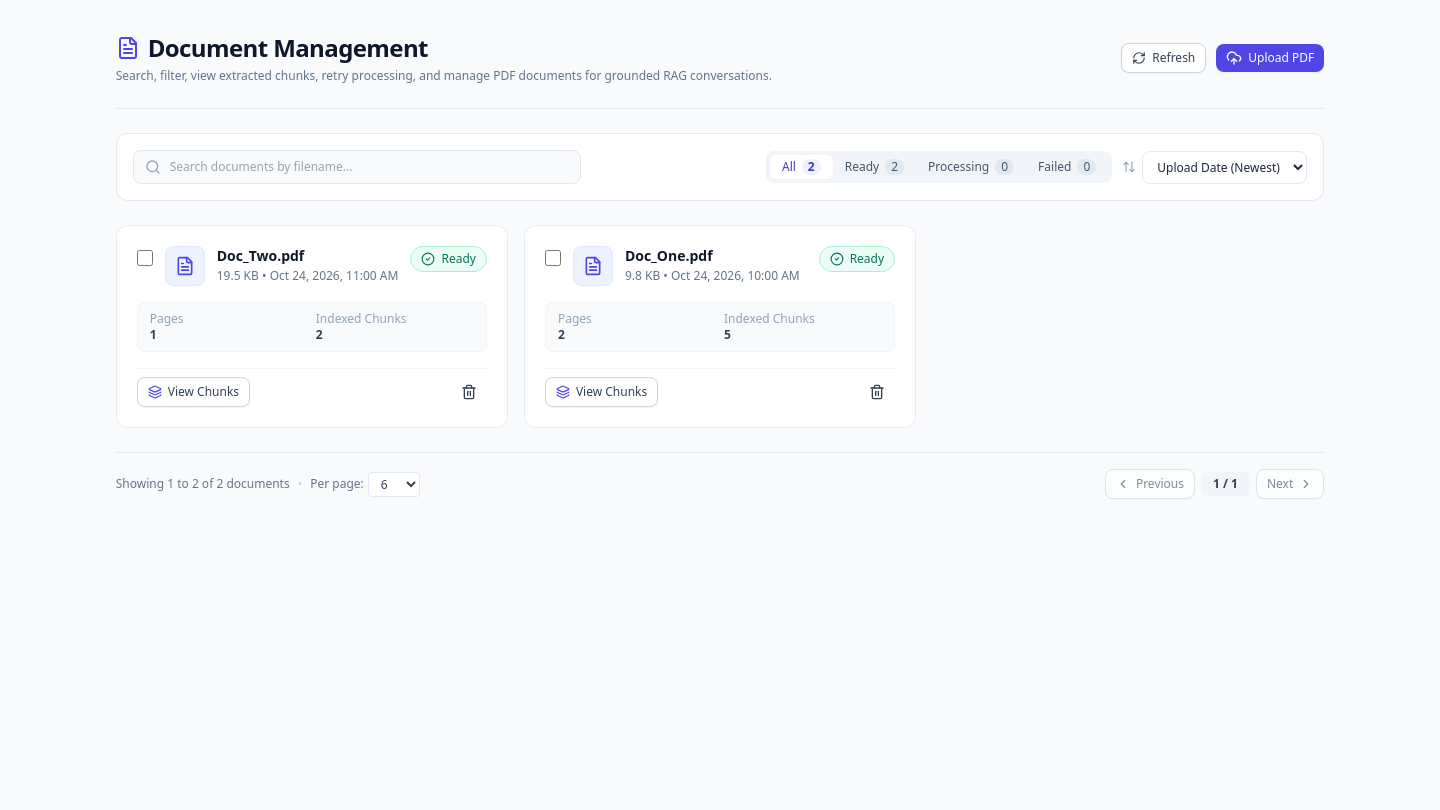
Test: Document Management and Status Handling › supports selecting multiple documents and executing bulk deletion with confirmation
This screenshot has width=1440, height=810.
Expected: the heading "Doc_One.pdf" is shown, [625,246,713,265]
Click the checkbox with test id "select-doc-checkbox-doc-1" at (553, 258), box [545,250,561,266]
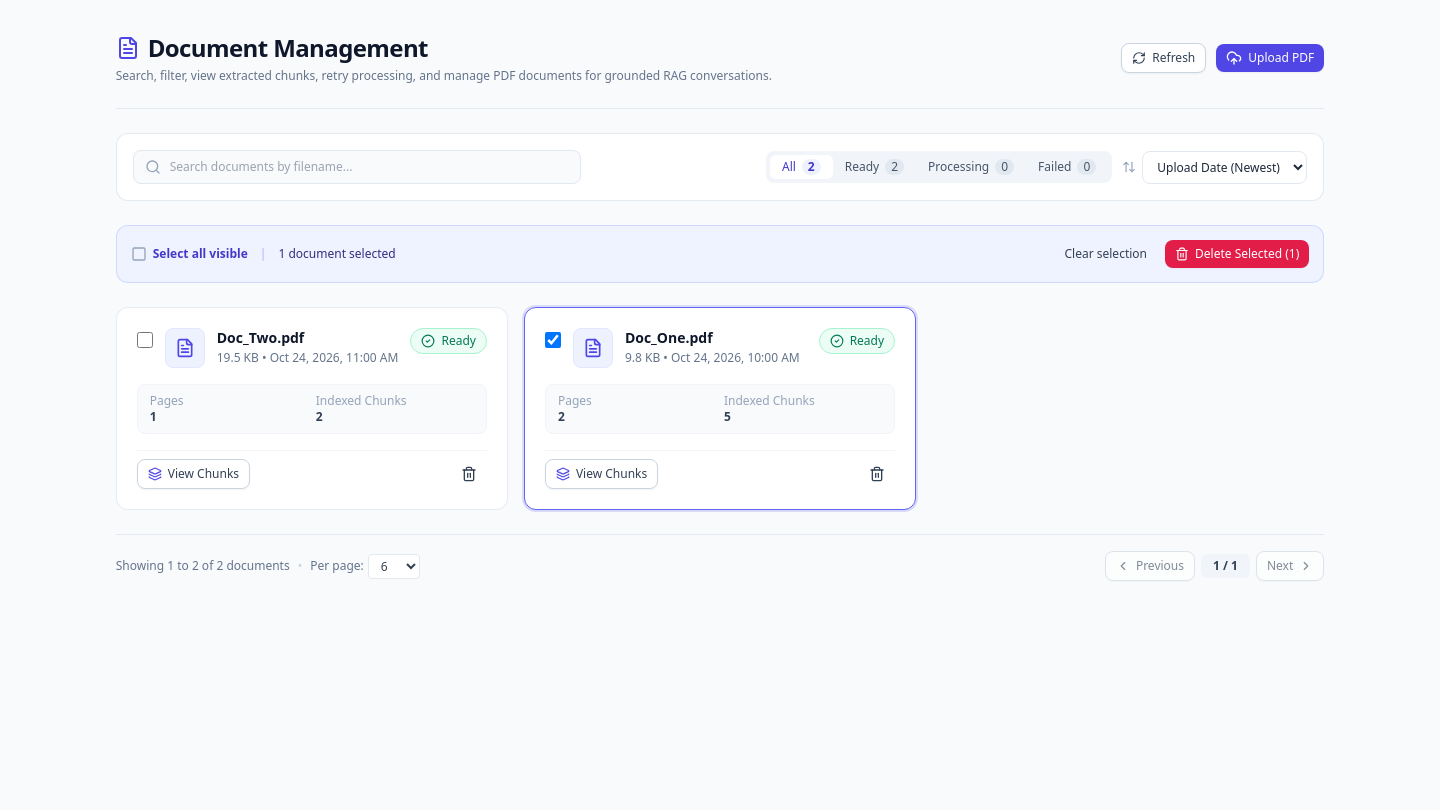
Expected: the element with test id "bulk-action-bar" is shown, [116,225,1324,283]
Expected: the text with test id "selected-count-badge" reads "1 document selected", [278,246,396,262]
Click the checkbox with test id "select-doc-checkbox-doc-2" at (145, 340), box [137,332,153,348]
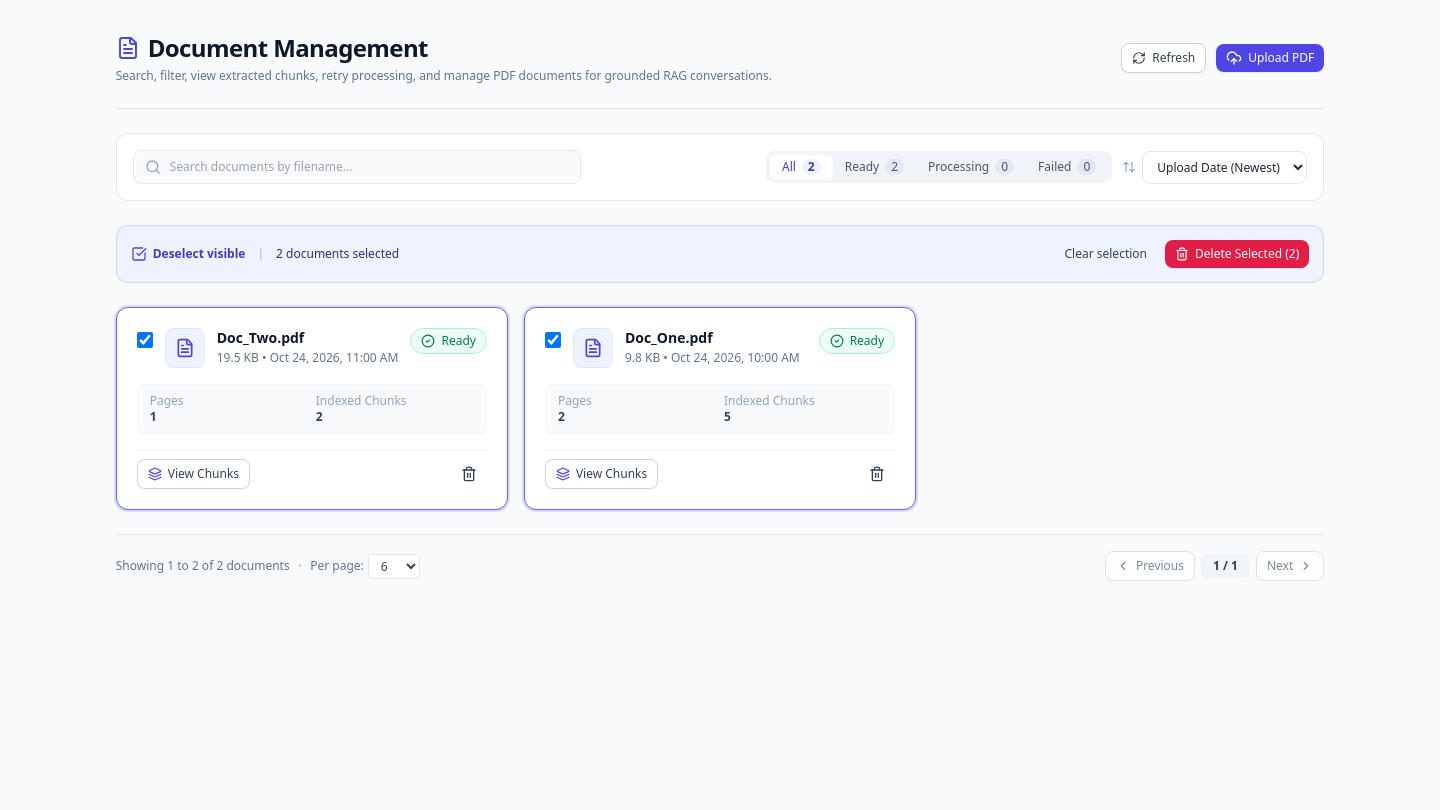
Expected: the text with test id "selected-count-badge" reads "2 documents selected", [276,246,399,262]
Click "Delete Selected (2)"
Click the button with test id "bulk-delete-button" at (1237, 254), box [1165,240,1309,268]
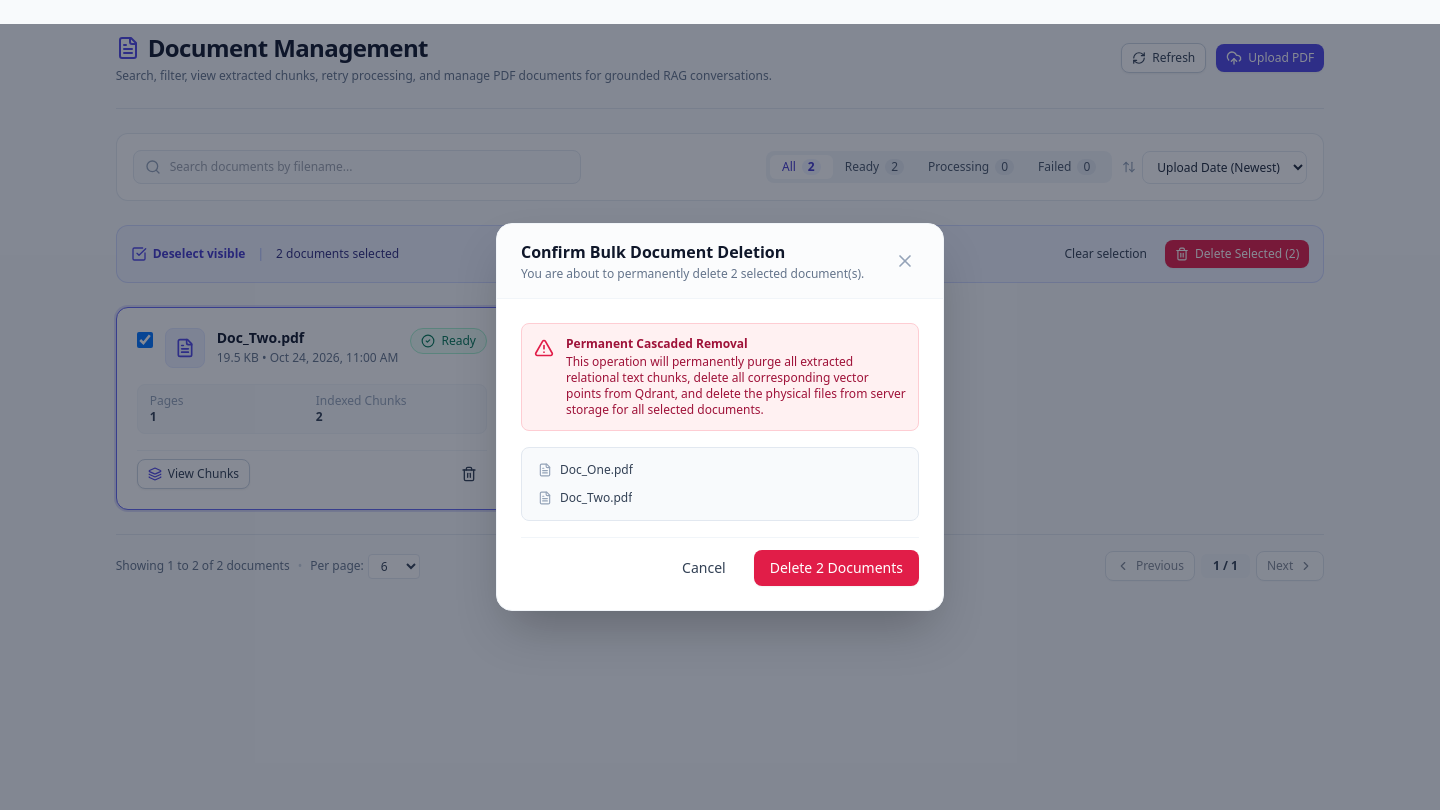
Expected: the heading "Confirm Bulk Document Deletion" is shown, [521,241,785,263]
Expected: the text "Permanent Cascaded Removal" is shown, [566,335,748,352]
Confirm deletion
Click the button with test id "confirm-bulk-delete-button" at (836, 568), box [754,550,919,586]
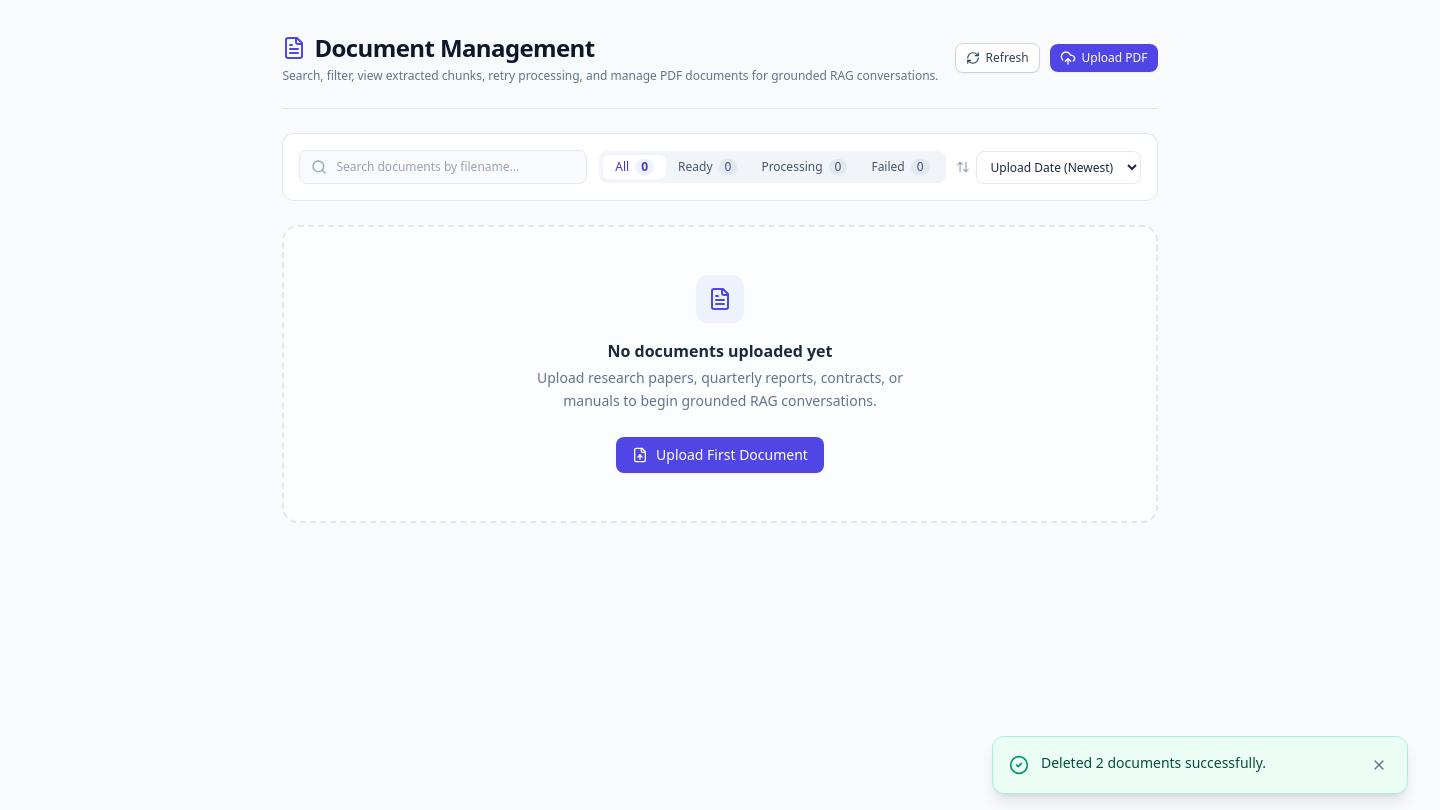
Expected: the heading "Doc_One.pdf" is gone
Expected: the heading "Doc_Two.pdf" is gone
